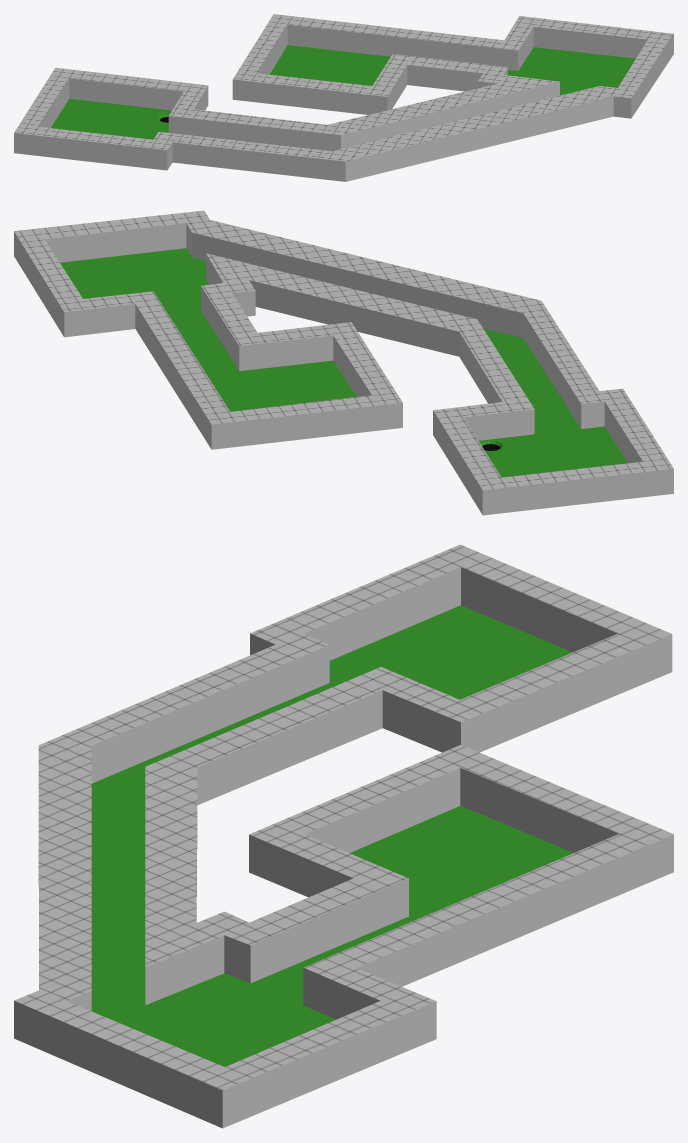
File: test_track 1.fbx
The picture shows the model from 3 angles, top to bottom: view 1: azimuth 30°, elevation 25°; view 2: azimuth 150°, elevation 25°; view 3: azimuth 270°, elevation 25°; orthographic projection. The views are drawn at different scales.
Visible parts, largest first — view 1: Plane; view 2: Plane; view 3: Plane.
Boxes of the visible parts, x1=… form: Plane: x1=14, y1=14, x2=673, y2=181; Plane: x1=14, y1=210, x2=673, y2=515; Plane: x1=14, y1=544, x2=673, y2=1128.
Size of the model in its own units: 2978 by 163 by 1521.
Materials: 1 (1 with a texture image).
